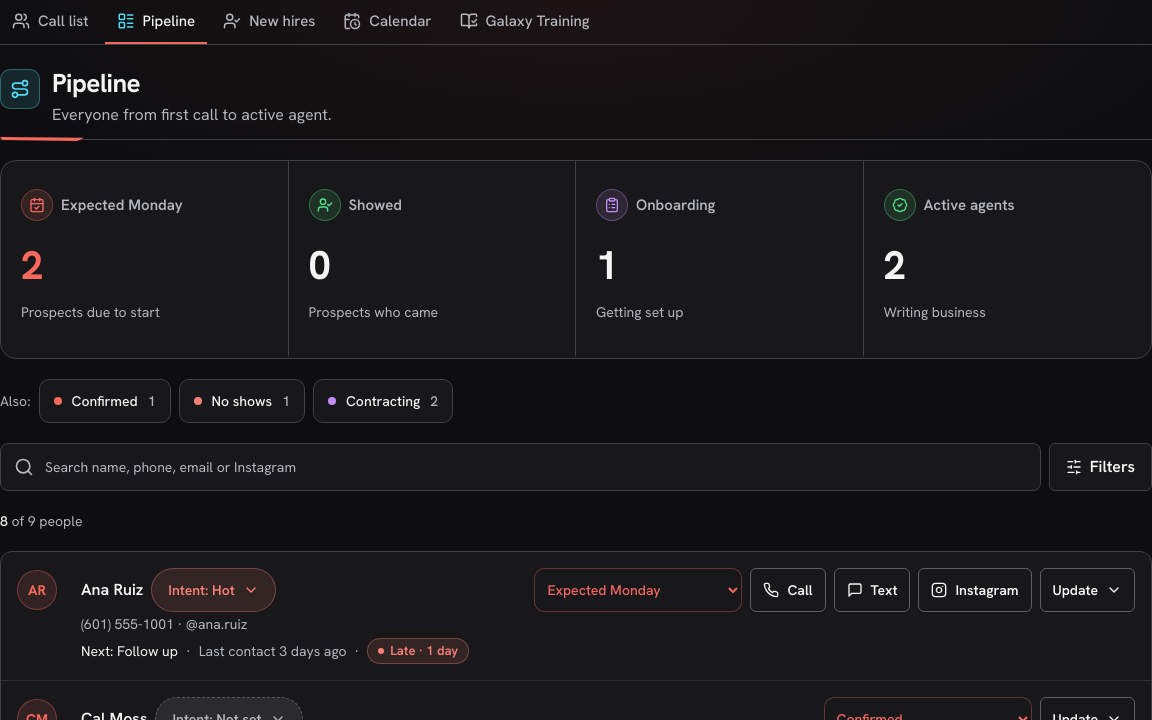
Recruiting Pipeline › keeps every number equal to its list, including Confirmed, No shows and the other tiles
Check: the text "Ana Ruiz" is shown, box [81,578,143,602]
Step 1. Click the button "Confirmed 1" → [104, 401], box [38,379,170,423]
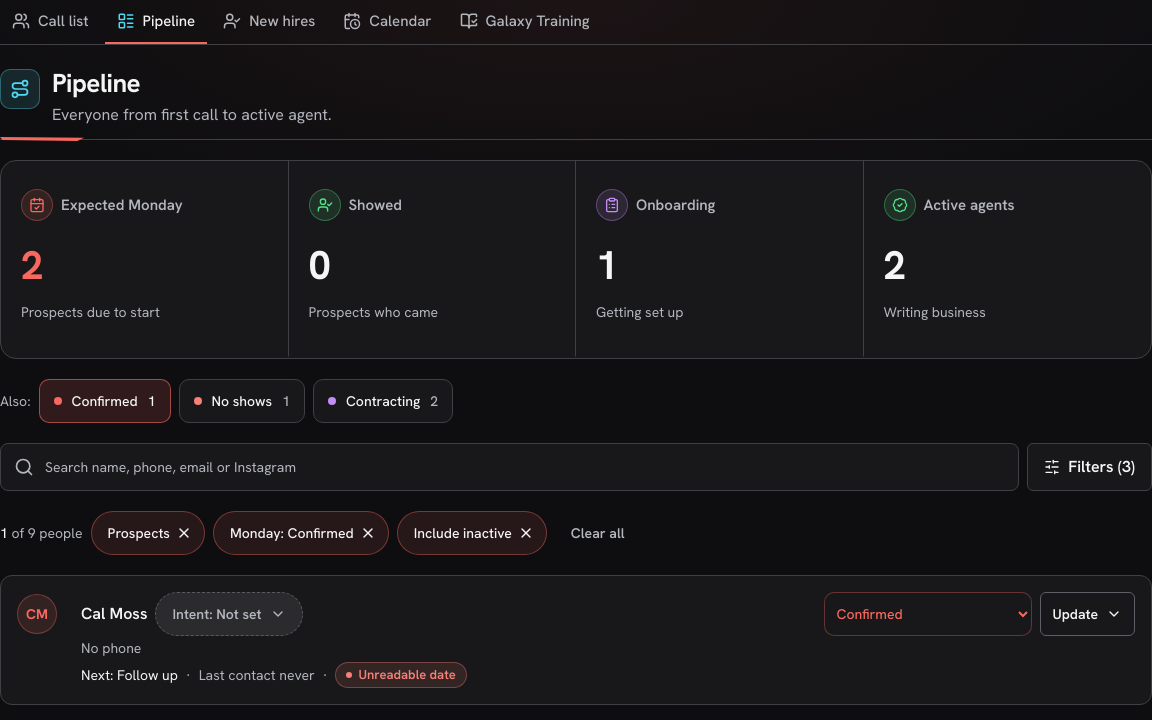
Step 2. Click the button "No shows 1" → [242, 401], box [178,379,305,423]
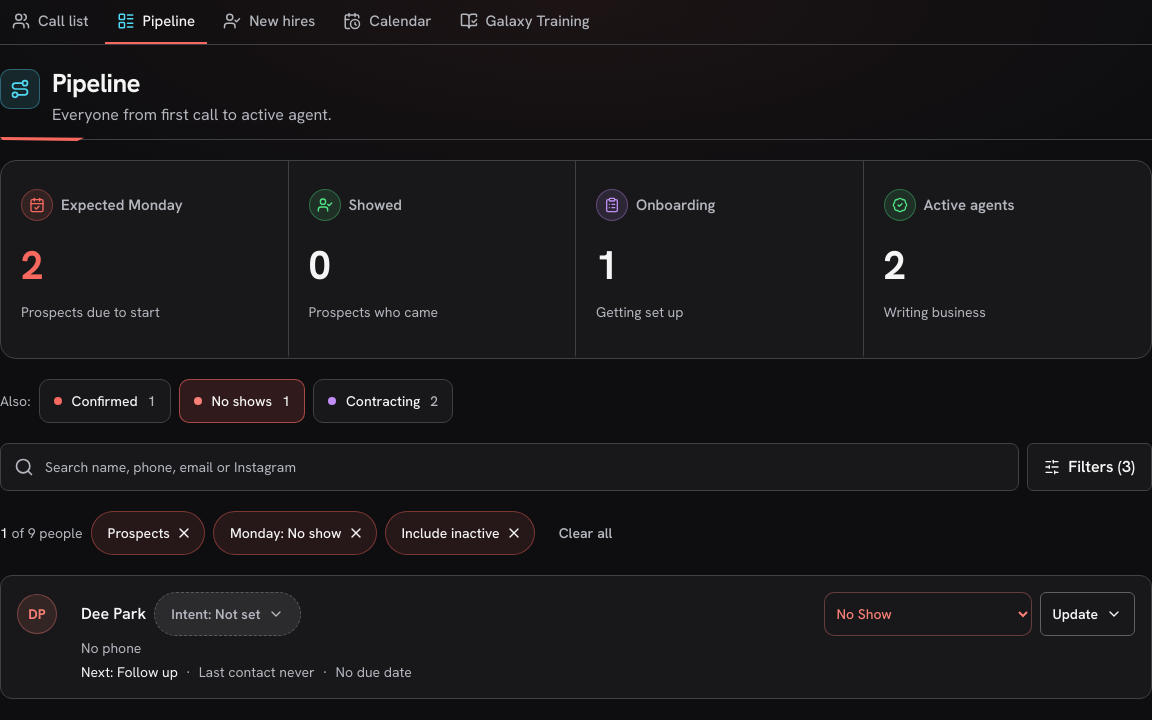
Step 3. Click the button "Showed 0 Prospects who came" → [324, 205], box [288,161,576,358]
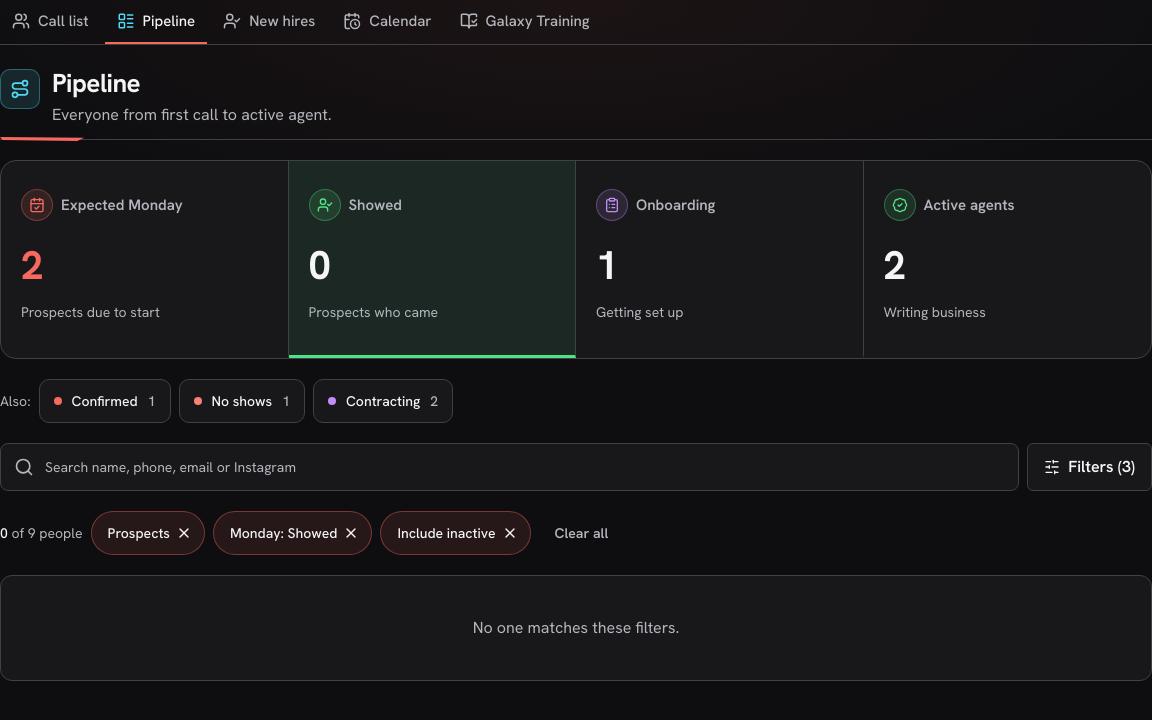
Check: the text "No one matches these filters." is shown, box [473,617,679,638]
Step 4. Click the button "Onboarding 1 Getting set up" → [612, 205], box [576,161,864,358]
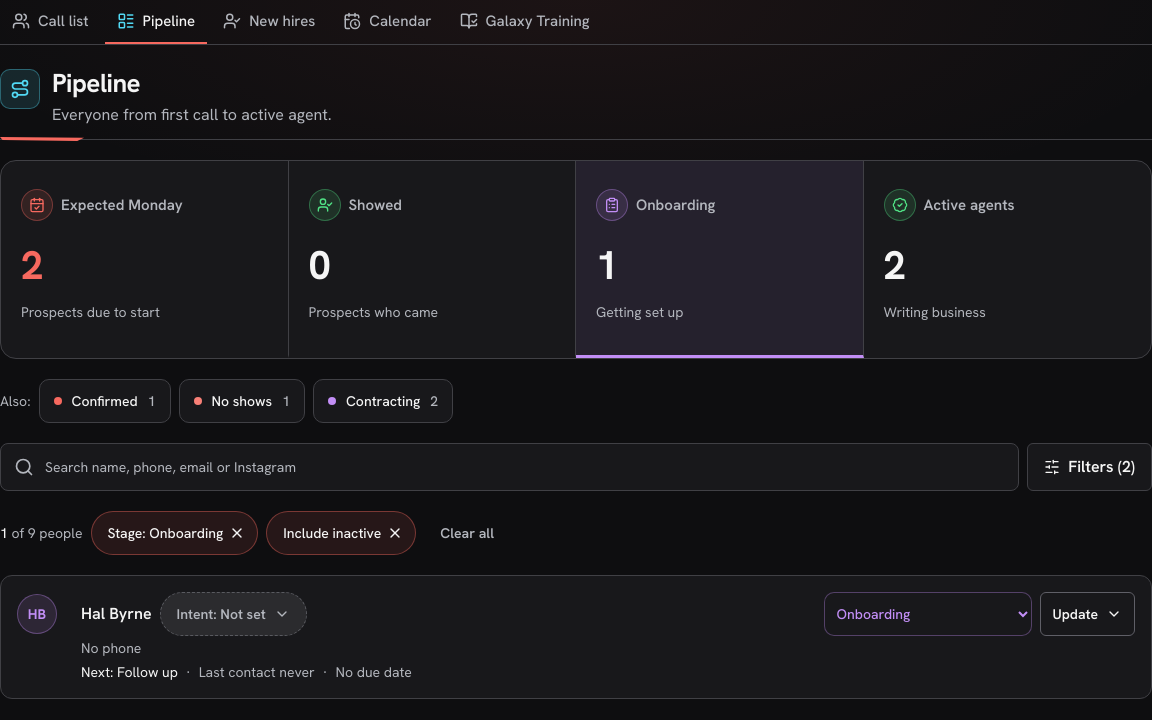
Step 5. Click the button "Active agents 2 Writing business" → [900, 205], box [864,161,1151,358]
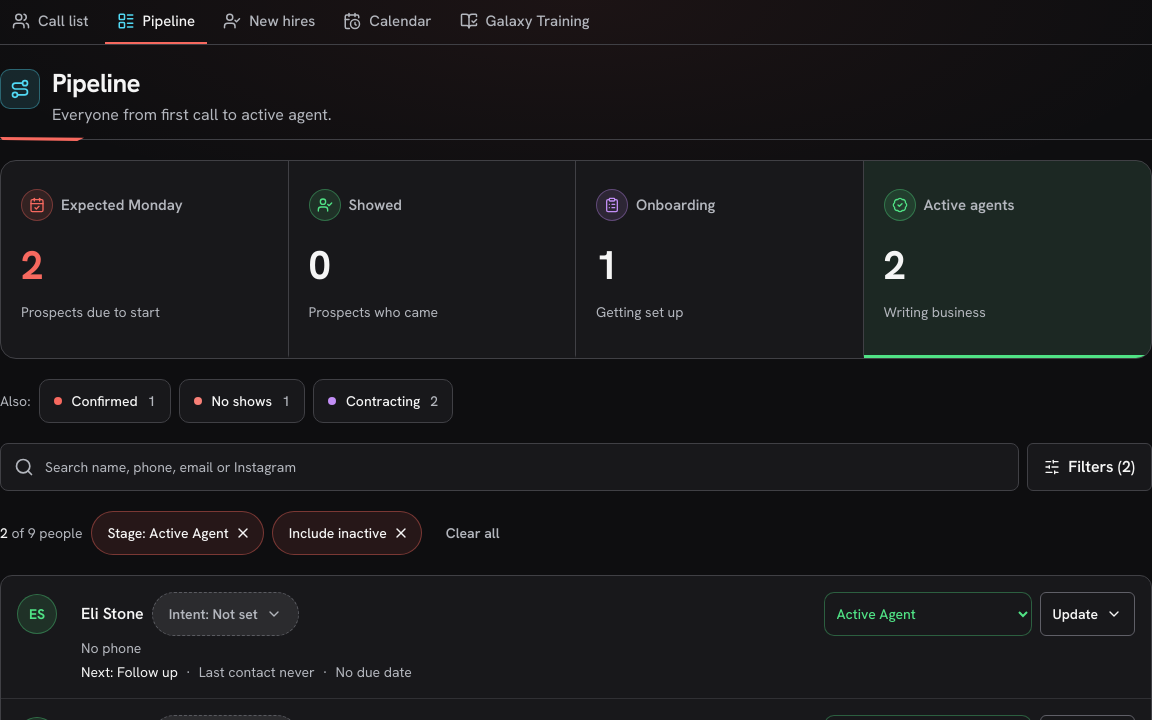
Check: the element showing "2 of 9 people" is shown, box [0,523,83,543]
